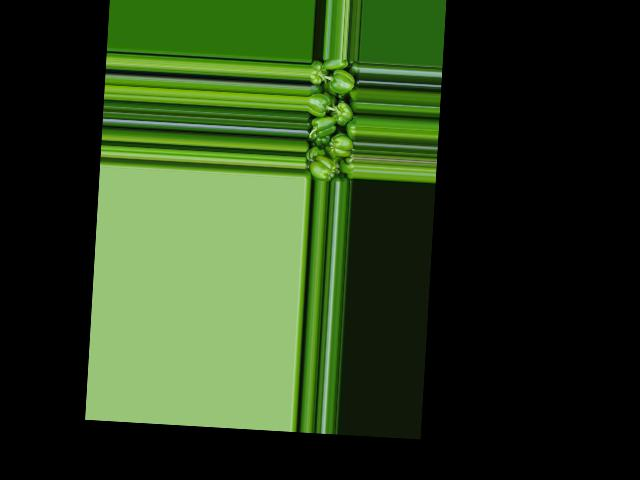bell_pepper: (305, 59, 360, 182)
